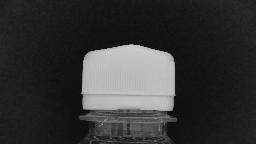Broken Cap: (77, 42, 179, 124)
